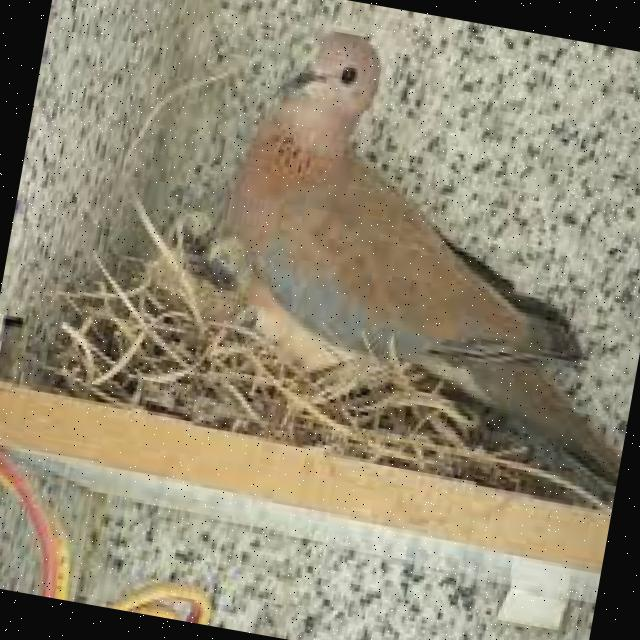dove: (175, 5, 640, 502)
